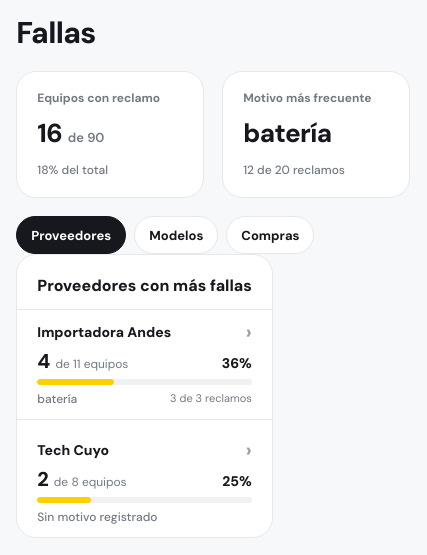
it: Fallas › compares real metrics and rankings with mobile grouping (phone=true)
Expected: the heading "Fallas" is shown, [16, 16, 96, 49]
Expected: the element named "Resumen de fallas" shows "16 de 90", [16, 71, 410, 198]
What coordinates should you click on to do the following:
click the tab "Modelos"
I would click on:
 (176, 235)
Its box is [134, 216, 218, 254].
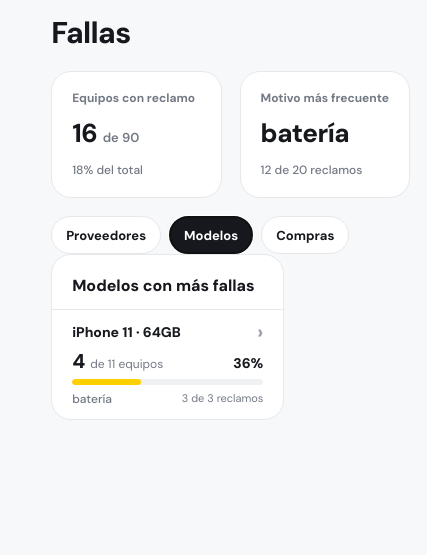
Expected: the button with aria-label "Reclamos de iPhone 11 · 64GB" is shown, [52, 310, 283, 419]
